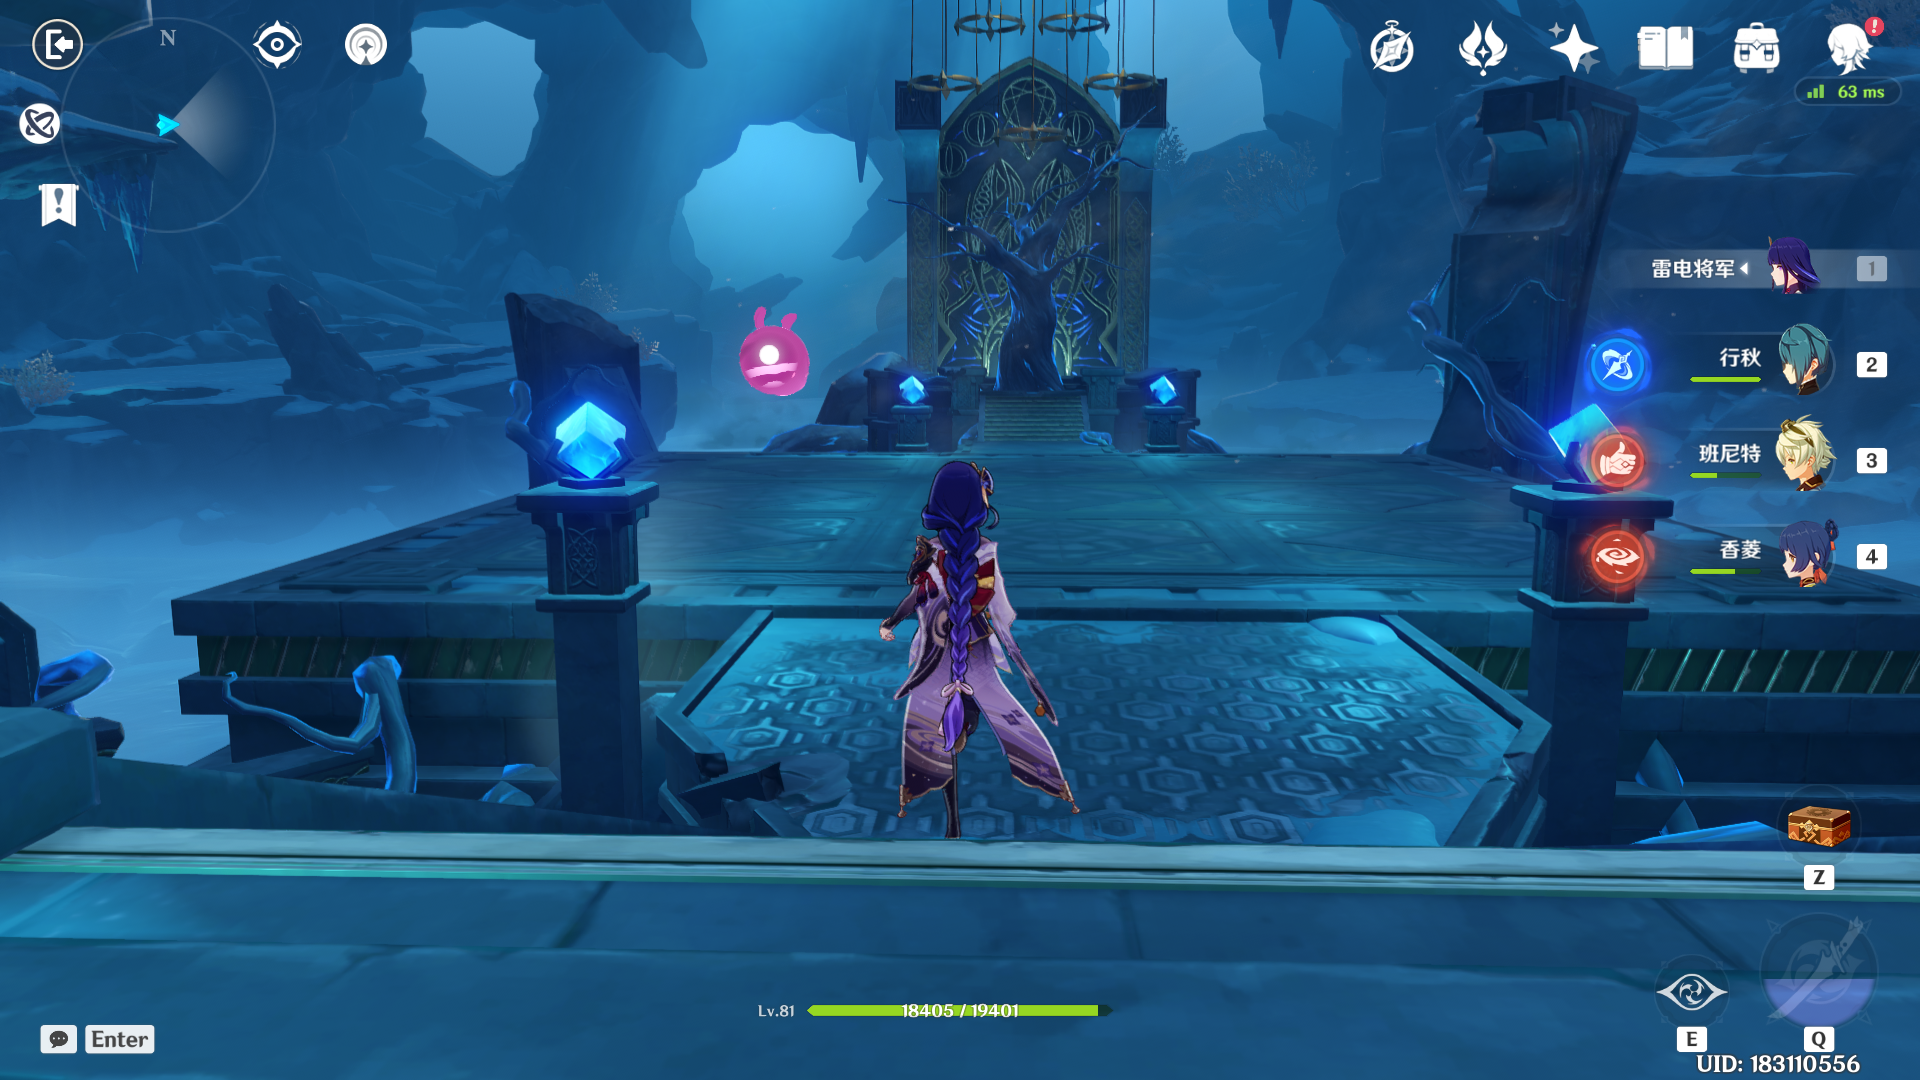character: (815, 419, 1120, 839)
